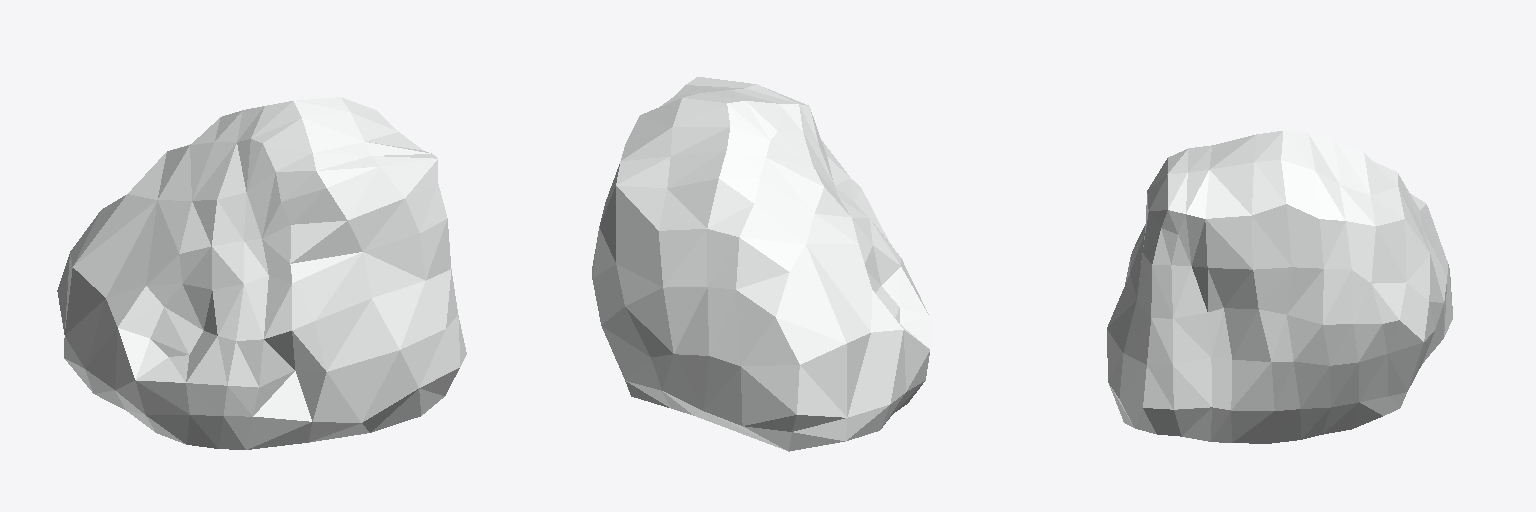
Rendered from Stone_2.obj.
3 views of the same model, side by side, from view 1: azimuth 30°, elevation 25°; view 2: azimuth 150°, elevation 25°; view 3: azimuth 270°, elevation 25° (orthographic).
Parts seen in each view (by area): view 1: Stone_2; view 2: Stone_2; view 3: Stone_2.
Part boxes in pixels (x1,y1,x2,y2): Stone_2: (57, 97, 466, 449); Stone_2: (592, 77, 930, 451); Stone_2: (1107, 131, 1452, 443).
Bounding box in the file's own units: 145 × 136 × 148.